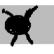not correct: (0, 5, 40, 46)
